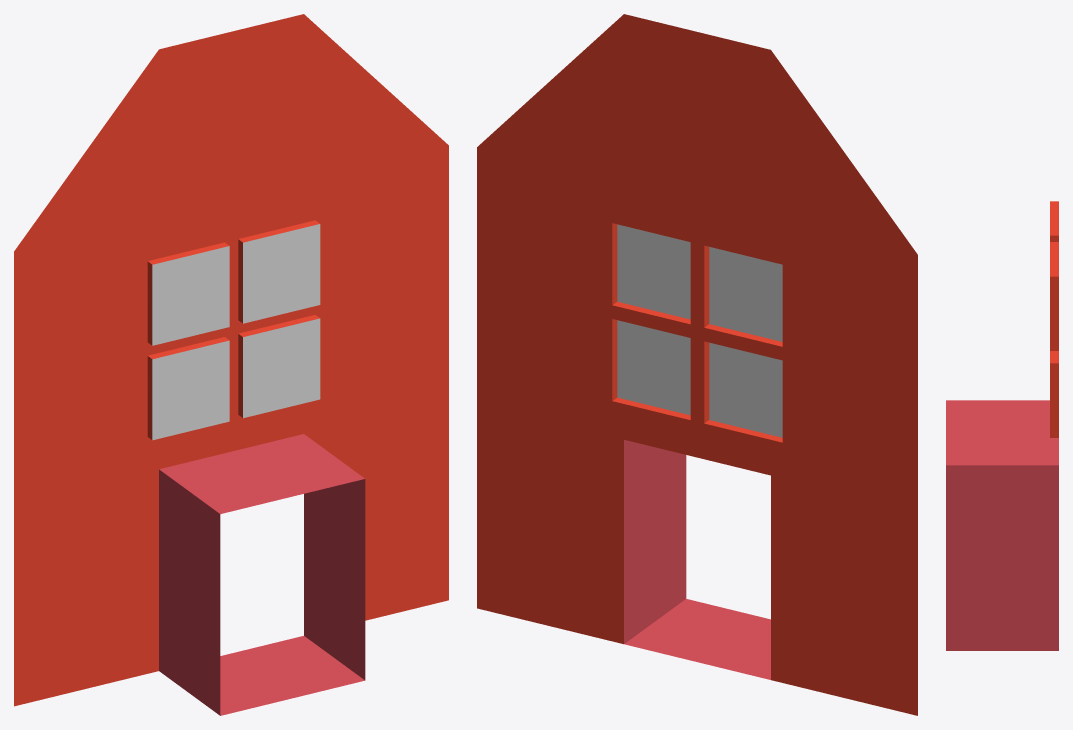
The model's file is windowDoorWall.fbx.
The picture shows the model from 3 angles, left to right: view 1: azimuth 30°, elevation 25°; view 2: azimuth 150°, elevation 25°; view 3: azimuth 270°, elevation 25°; orthographic projection. The views are drawn at different scales.
Visible parts, largest first — view 1: WindowDoorWall; view 2: WindowDoorWall; view 3: WindowDoorWall.
Part boxes in pixels (x1,y1,x2,y2): WindowDoorWall: (14,14,448,715); WindowDoorWall: (477,14,917,715); WindowDoorWall: (946,201,1058,650).
Bounding box in the file's own units: 200 × 273 × 48.88.
